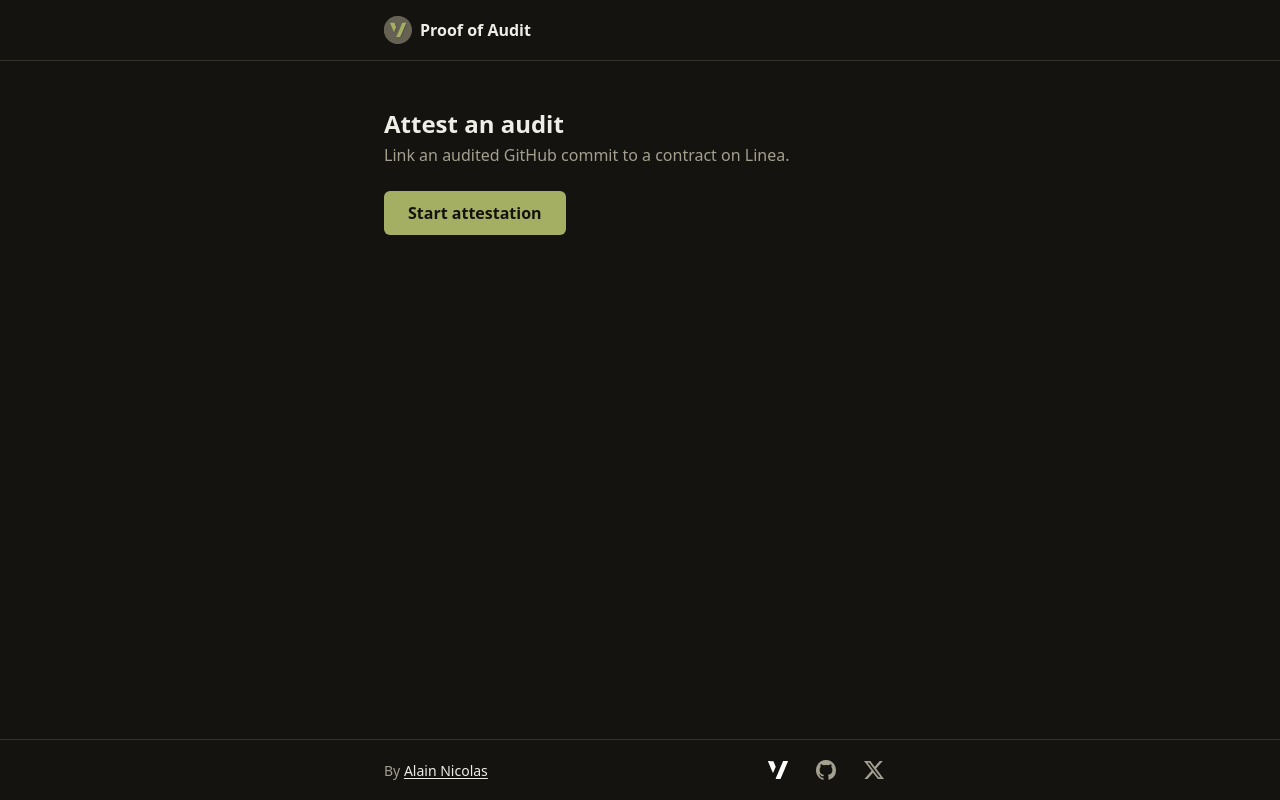
Test: App wallet loading › surfaces a preload rejection instead of an unhandled rejection
Hover over the button "Start attestation".
mouse_move(475, 213)  # box [384,191,566,235]
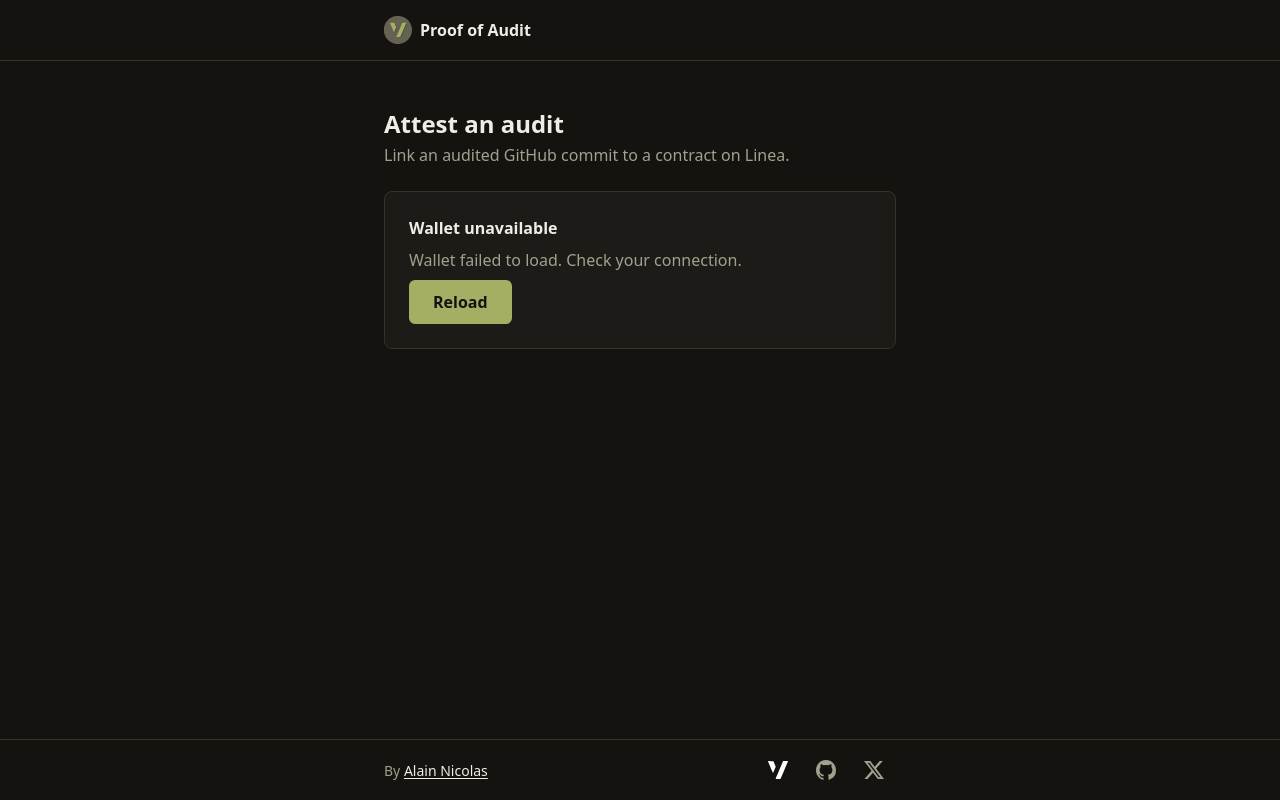
Expected: the message shows "failed to load", [409,249,742,271]
